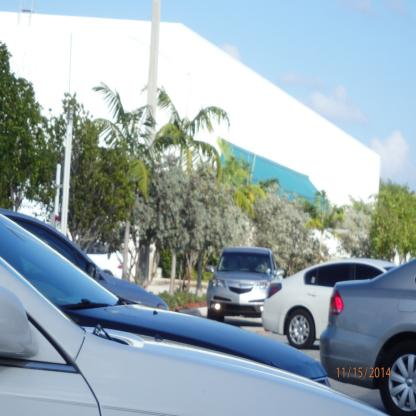Car: (1, 256, 387, 416), (1, 213, 333, 389), (1, 211, 169, 313), (263, 258, 397, 348), (207, 249, 286, 320)
